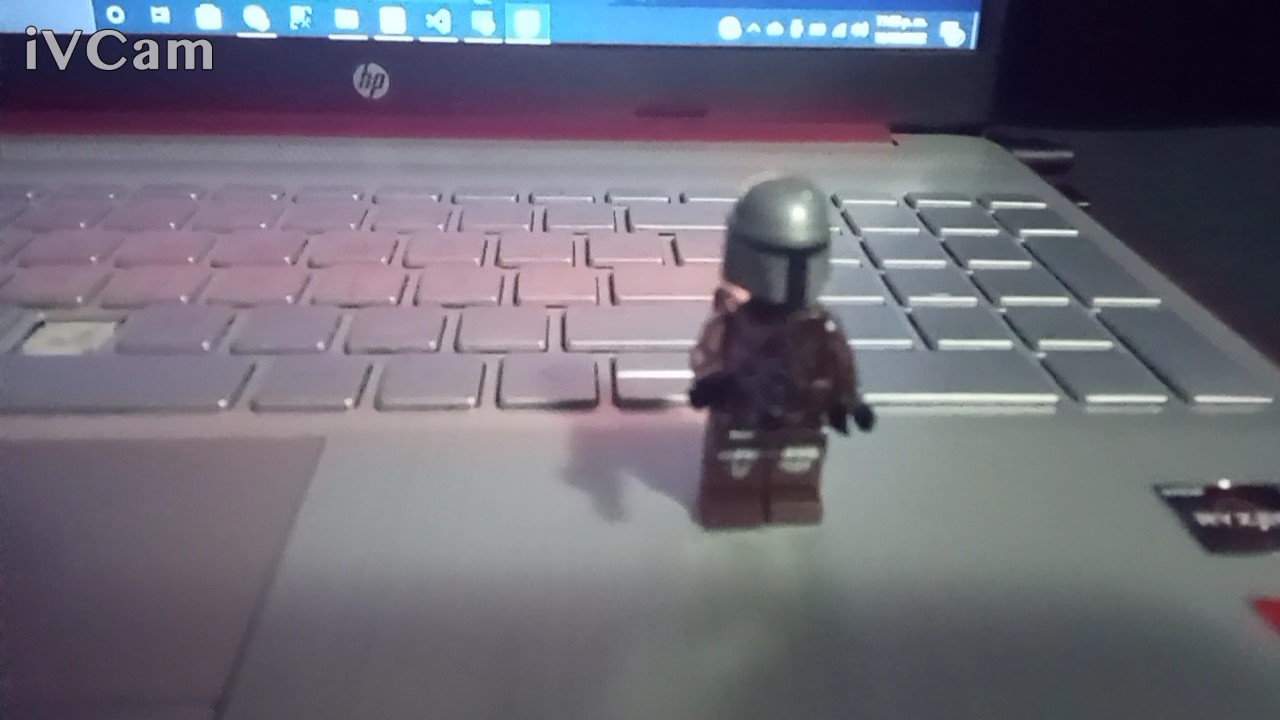mandalorian: (671, 165, 891, 545)
